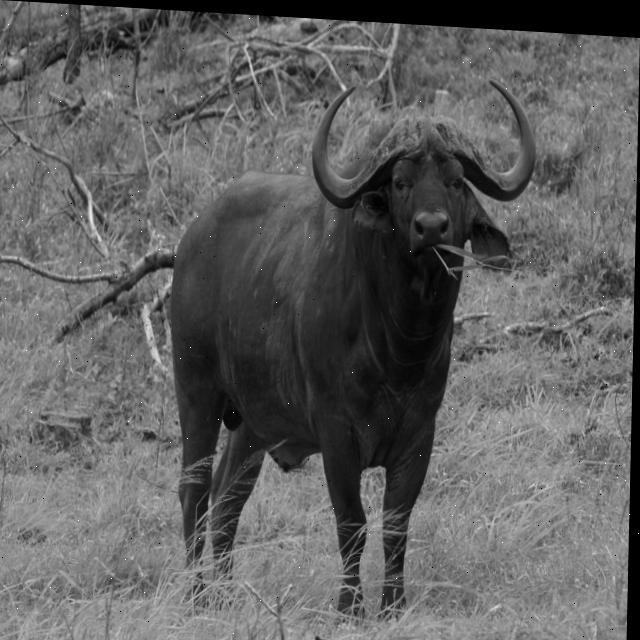Buffalo: (163, 60, 540, 632)
